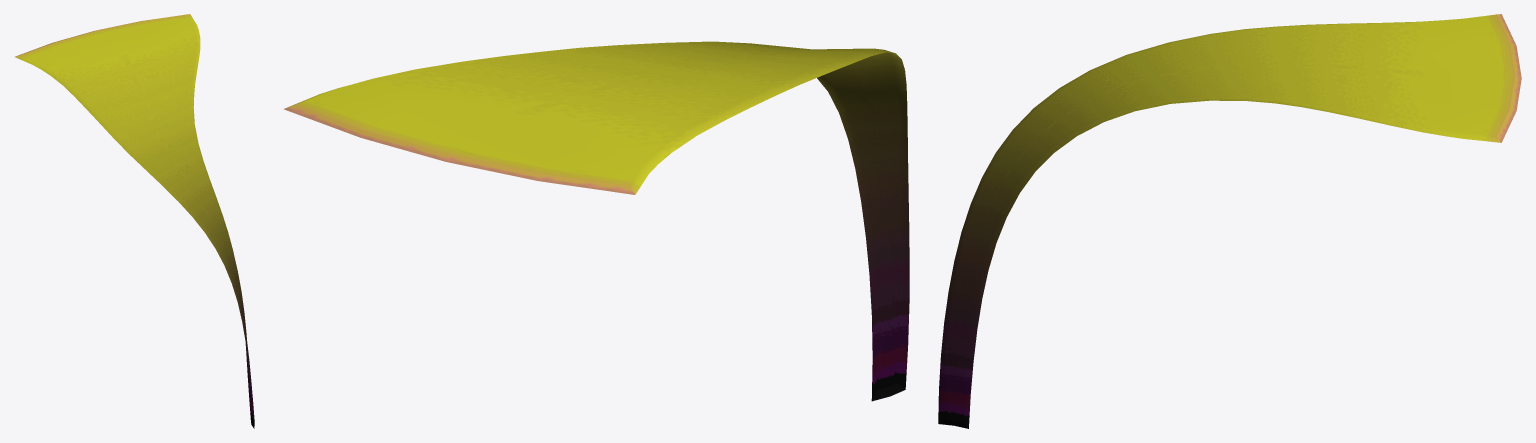
File: ha_h__player_slice (1).glb
3 renders of one model, left to right at view 1: azimuth 30°, elevation 25°; view 2: azimuth 150°, elevation 25°; view 3: azimuth 270°, elevation 25°, orthographic. The views are drawn at different scales.
Visible parts, largest first — view 1: Object_2; view 2: Object_2; view 3: Object_2.
Boxes of the visible parts, left/top/right/bottom form: Object_2: left=15, top=14, right=254, bottom=428; Object_2: left=283, top=41, right=909, bottom=401; Object_2: left=938, top=14, right=1521, bottom=428.
Size of the model in its own units: 76.97 by 104 by 147.
1 material, 1 textured.
